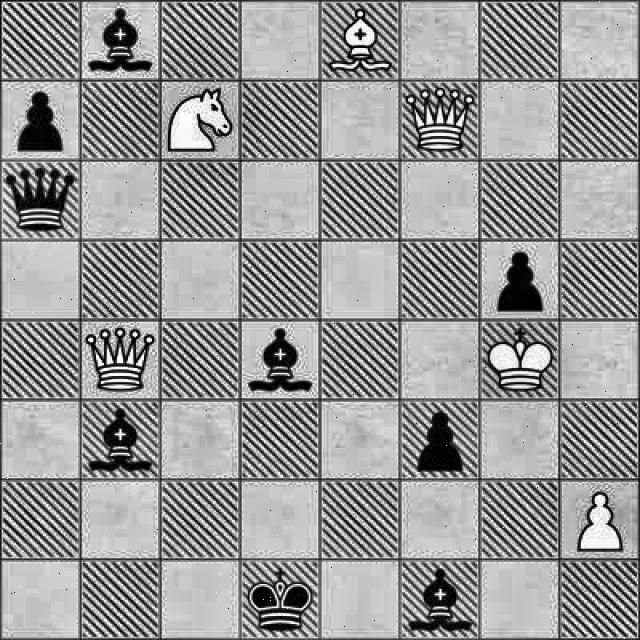black bishop: (405, 563, 477, 639), (248, 324, 316, 402), (84, 3, 152, 78), (87, 403, 151, 477)
black king: (246, 565, 316, 635)
black pawn: (484, 246, 558, 316), (8, 84, 76, 158), (418, 404, 466, 480)
black queen: (1, 163, 76, 237)
white bishop: (327, 2, 395, 76)
white king: (486, 326, 556, 396)
white pawn: (570, 488, 628, 556)
white queen: (404, 84, 476, 154), (84, 323, 156, 393)
whiteknight: (166, 85, 232, 158)
